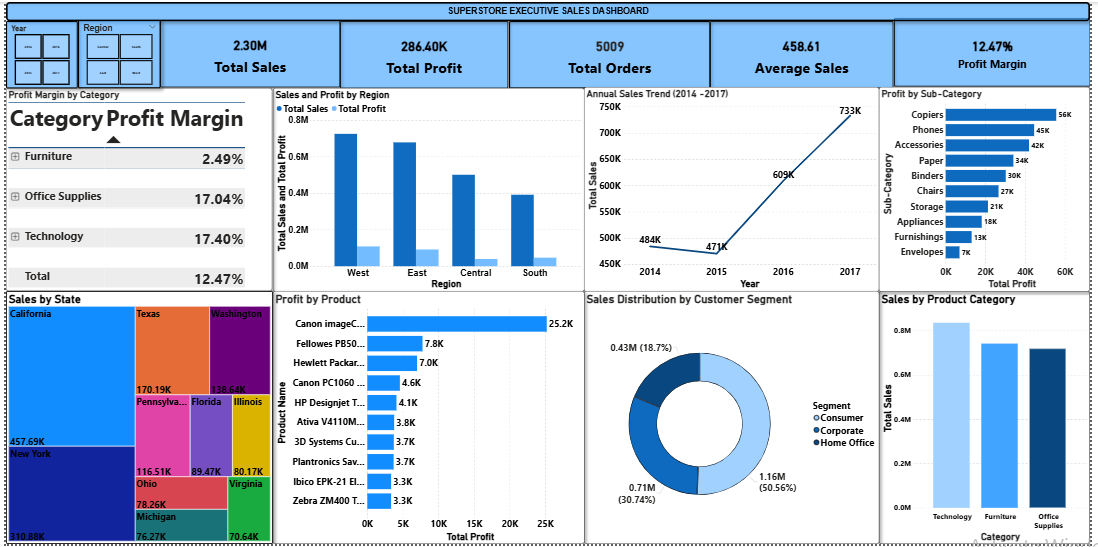

What the dashboard file says about the page in this screenshot:
{"tool":"powerbi","page":{"name":"Superstore Dashboard","canvas":[3000,1500],"ordinal":0},"visuals":[{"type":"card","fields":{"Values":["Sample - Superstore.Total Sales"]},"box":[569.5,68.5,413.9,249],"z":0},{"type":"card","fields":{"Values":["Sample - Superstore.Total Profit"]},"box":[983.4,71.6,423.2,249],"z":1000},{"type":"card","fields":{"Values":["Sample - Superstore.Total Orders"]},"box":[1406.6,71.6,491.7,249],"z":2000},{"type":"card","fields":{"Values":["Sample - Superstore.Average Sales"]},"box":[1898.3,65.4,535.3,252.1],"z":3000},{"type":"card","fields":{"Values":["Sample - Superstore.Profit Margin"]},"box":[2433.6,68.5,566.4,252.1],"z":4000},{"type":"clusteredColumnChart","title":"Sales and Profit by Region","fields":{"Category":["Sample - Superstore.Region"],"Y":["Sample - Superstore.Total Sales","Sample - Superstore.Total Profit"]},"box":[603.7,317.4,802.9,563.3],"z":5000},{"type":"clusteredColumnChart","title":"Sales by Product Category","fields":{"Category":["Sample - Superstore.Category"],"Y":["Sample - Superstore.Total Sales"]},"box":[2271.8,880.7,728.2,619.3],"z":6000},{"type":"lineChart","title":"Annual Sales Trend (2014 -2017)","fields":{"Y":["Sample - Superstore.Total Sales"],"Category":["Sample - Superstore.Order Date.Variation.Date Hierarchy.Year"]},"box":[1406.6,317.4,862,563.3],"z":7000},{"type":"donutChart","title":"Sales Distribution by Customer Segment","fields":{"Category":["Sample - Superstore.Segment"],"Y":["Sample - Superstore.Total Sales"]},"box":[1406.6,880.7,865.1,619.3],"z":8000},{"type":"pivotTable","title":"Profit Margin by Category","fields":{"Rows":["Sample - Superstore.Category","Sample - Superstore.Sub-Category"],"Values":["Sample - Superstore.Profit Margin"]},"box":[0,317.4,603.7,563.3],"z":9000},{"type":"textbox","box":[0,0,3000,68.5],"z":10000},{"type":"clusteredBarChart","title":"Profit by Product","fields":{"Category":["Sample - Superstore.Product Name"],"Y":["Sample - Superstore.Total Profit"]},"box":[603.7,880.7,802.9,619.3],"z":11000},{"type":"clusteredBarChart","title":"Profit by Sub-Category","fields":{"Category":["Sample - Superstore.Sub-Category"],"Y":["Sample - Superstore.Total Profit"]},"box":[2271.8,317.4,728.2,563.3],"z":12000},{"type":"slicer","fields":{"Values":["Sample - Superstore.Order Date.Variation.Date Hierarchy.Year"]},"box":[0,68.5,264.5,249],"z":13000},{"type":"slicer","fields":{"Values":["Sample - Superstore.Region"]},"box":[264.5,65.4,305,252.1],"z":14000},{"type":"clusteredColumnChart","title":"Sales by State","fields":{"Category":["Sample - Superstore.State"],"Y":["Sample - Superstore.Total Sales"]},"box":[0,880.7,603.7,619.3],"z":15000}]}

Visuals, with their boxes in screenshot pixels (x1, y1, x2, y2), scaled from the page's 3000x1500 canvas onto the 1098x547 screenshot:
card - Sample - Superstore.Total Sales: BBox(208, 25, 360, 116)
card - Sample - Superstore.Total Profit: BBox(360, 26, 515, 117)
card - Sample - Superstore.Total Orders: BBox(515, 26, 695, 117)
card - Sample - Superstore.Average Sales: BBox(695, 24, 891, 116)
card - Sample - Superstore.Profit Margin: BBox(891, 25, 1097, 117)
"Sales and Profit by Region" clusteredColumnChart: BBox(221, 116, 515, 321)
"Sales by Product Category" clusteredColumnChart: BBox(831, 321, 1097, 546)
"Annual Sales Trend (2014 -2017)" lineChart: BBox(515, 116, 830, 321)
"Sales Distribution by Customer Segment" donutChart: BBox(515, 321, 831, 546)
"Profit Margin by Category" pivotTable: BBox(0, 116, 221, 321)
textbox: BBox(0, 0, 1097, 25)
"Profit by Product" clusteredBarChart: BBox(221, 321, 515, 546)
"Profit by Sub-Category" clusteredBarChart: BBox(831, 116, 1097, 321)
slicer - Sample - Superstore.Order Date.Variation.Date Hierarchy.Year: BBox(0, 25, 97, 116)
slicer - Sample - Superstore.Region: BBox(97, 24, 208, 116)
"Sales by State" clusteredColumnChart: BBox(0, 321, 221, 546)
